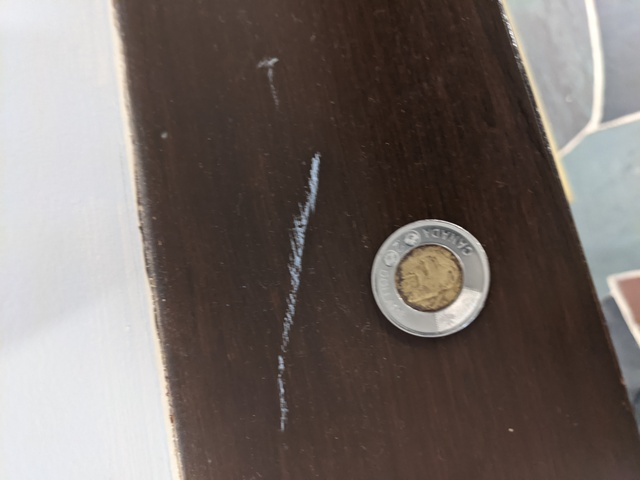twonie: (365, 216, 501, 346)
